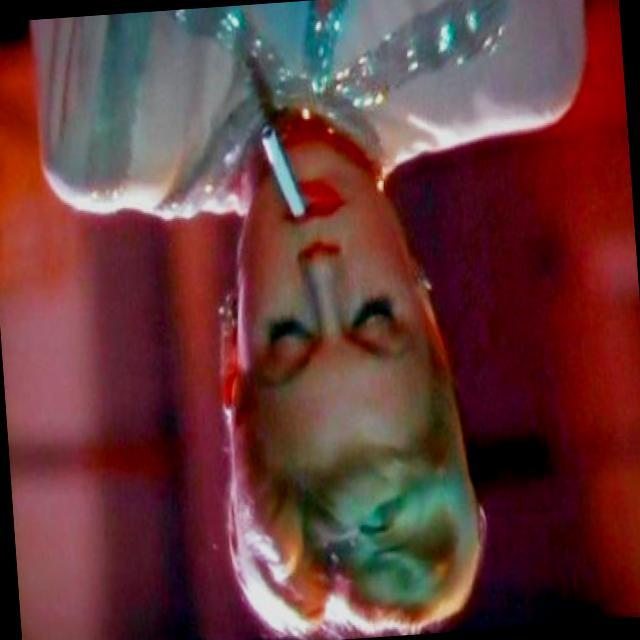smoke: (234, 78, 319, 240)
